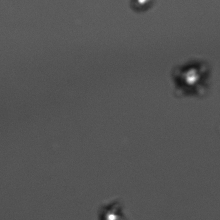Living Cell: (175, 59, 208, 93), (129, 1, 154, 12)
